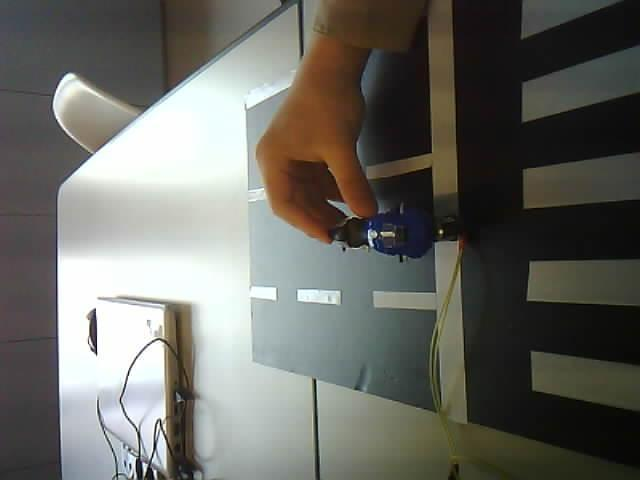Motorcycle: (316, 198, 489, 255)
